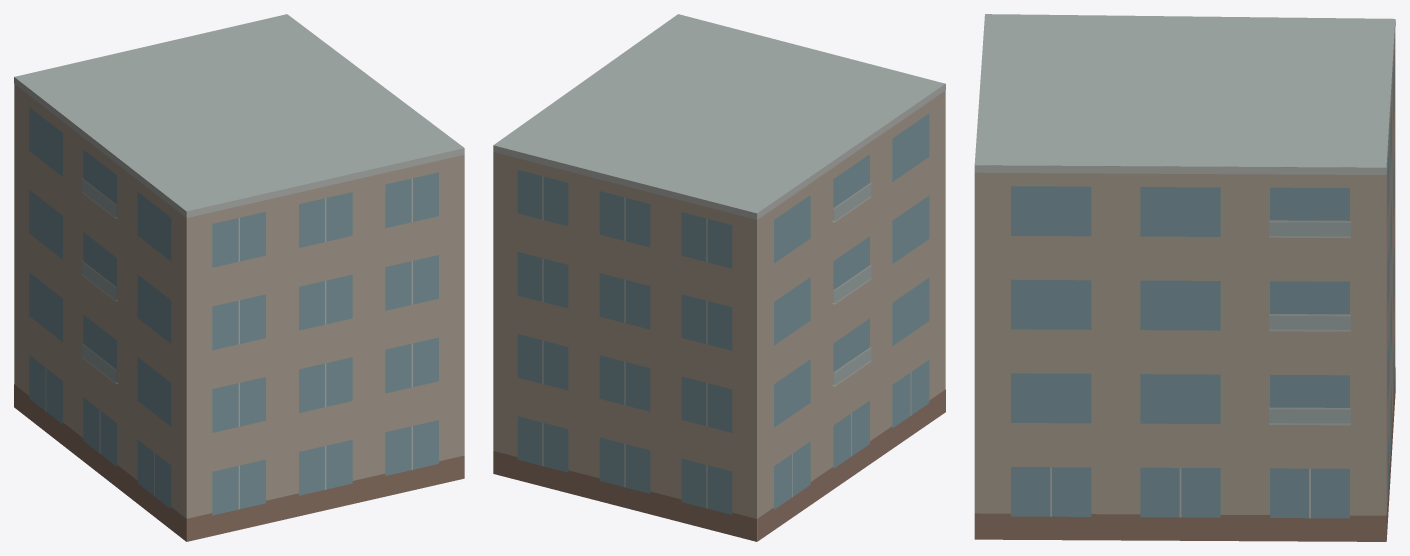
File: survey-upis-32728803.glb
The picture shows the model from 3 angles, left to right: view 1: azimuth 30°, elevation 25°; view 2: azimuth 150°, elevation 25°; view 3: azimuth 270°, elevation 25°; orthographic projection. The views are drawn at different scales.
Parts seen in each view (by area): view 1: survey-upis-32728803.tmp; view 2: survey-upis-32728803.tmp; view 3: survey-upis-32728803.tmp.
Boxes of the visible parts, x1,y1,x2,y2 form: survey-upis-32728803.tmp: (14, 14, 464, 541); survey-upis-32728803.tmp: (493, 14, 945, 541); survey-upis-32728803.tmp: (974, 14, 1395, 541).
Size of the model in its own units: 10.77 by 12.2 by 12.44.
